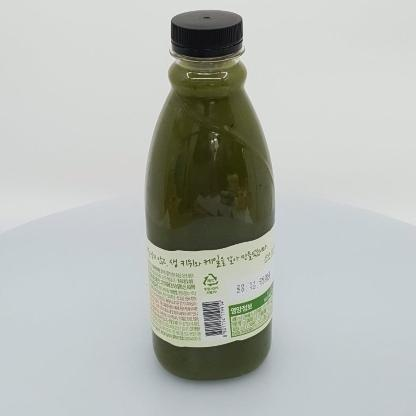-----------700ML: (144, 9, 275, 381)
